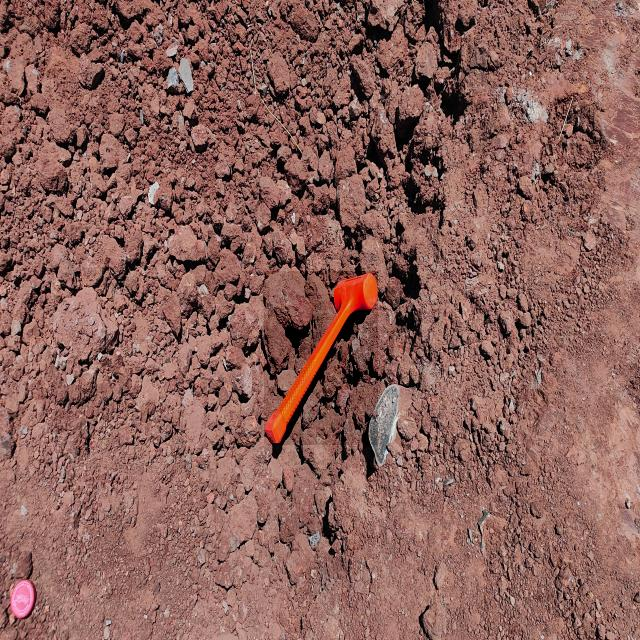Orange_hammer: (264, 271, 378, 445)
